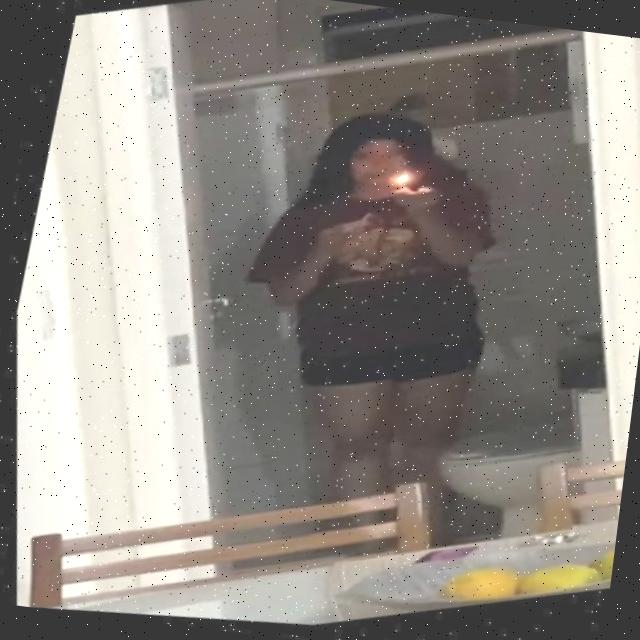fire: (378, 165, 417, 197)
